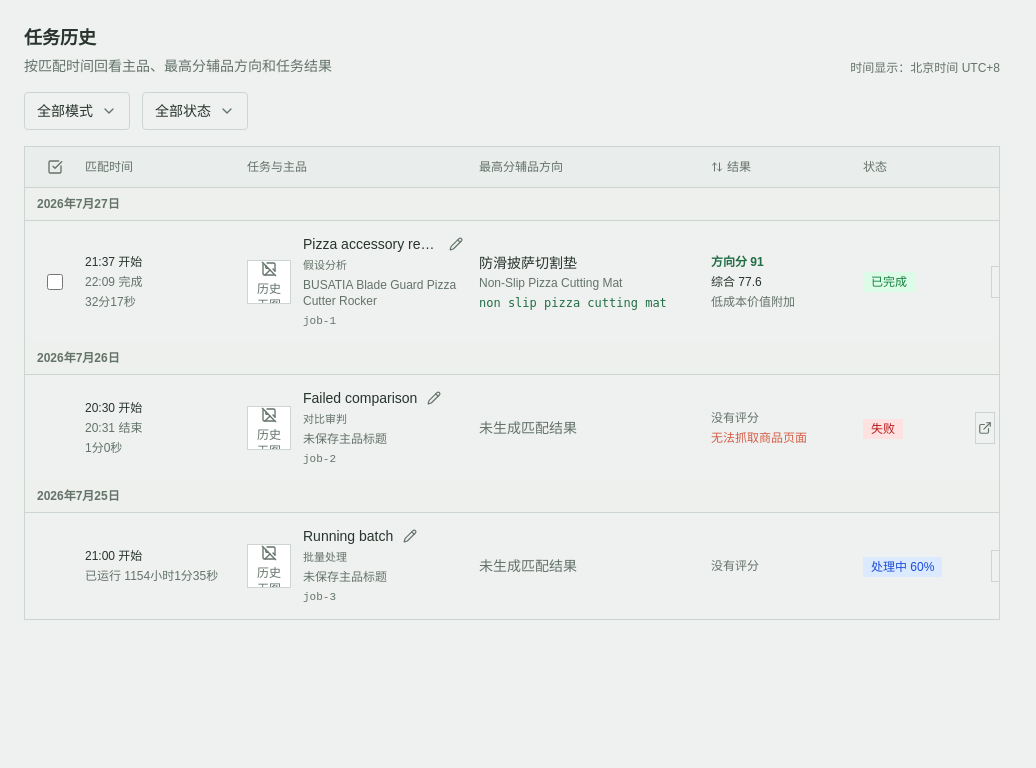
cancels task-note editing with Escape
The image size is (1036, 768).
Check: the text "Pizza accessory research" is shown, box [303, 234, 439, 254]
Step 1. Click the button named "修改任务备注" next to "Pizza accessory research" → click(456, 244), box [445, 233, 467, 255]
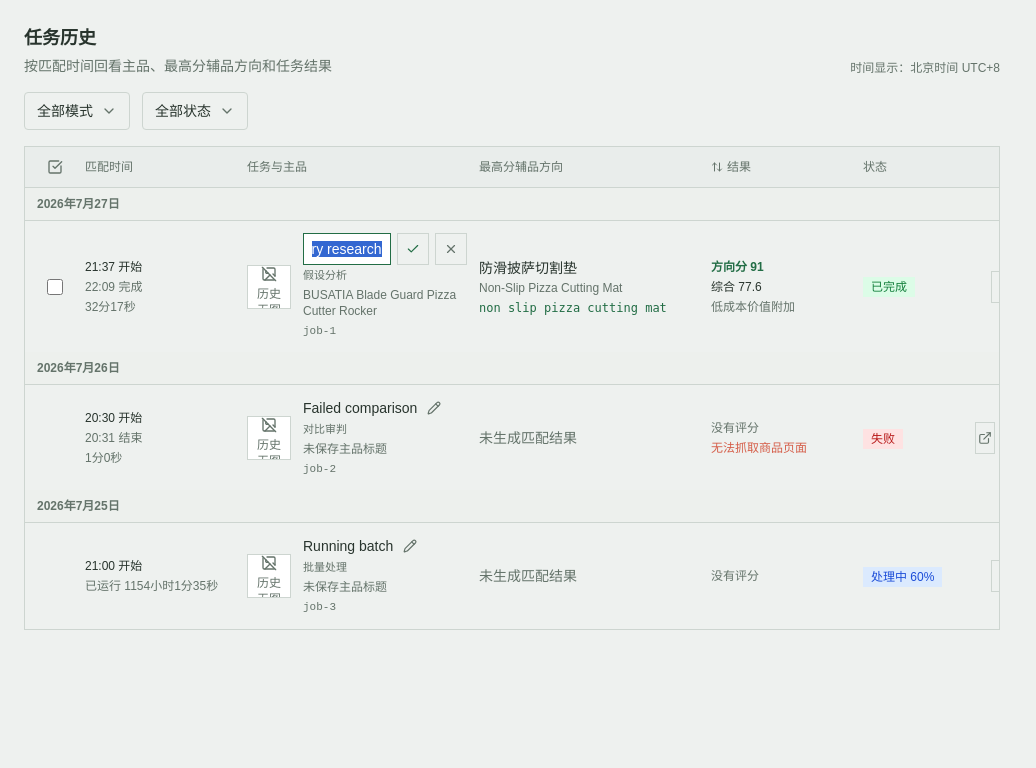
Step 2. Replace the text in the field named "任务备注" with "不会保存" → (347, 249), box [303, 233, 391, 265]
Then press Escape
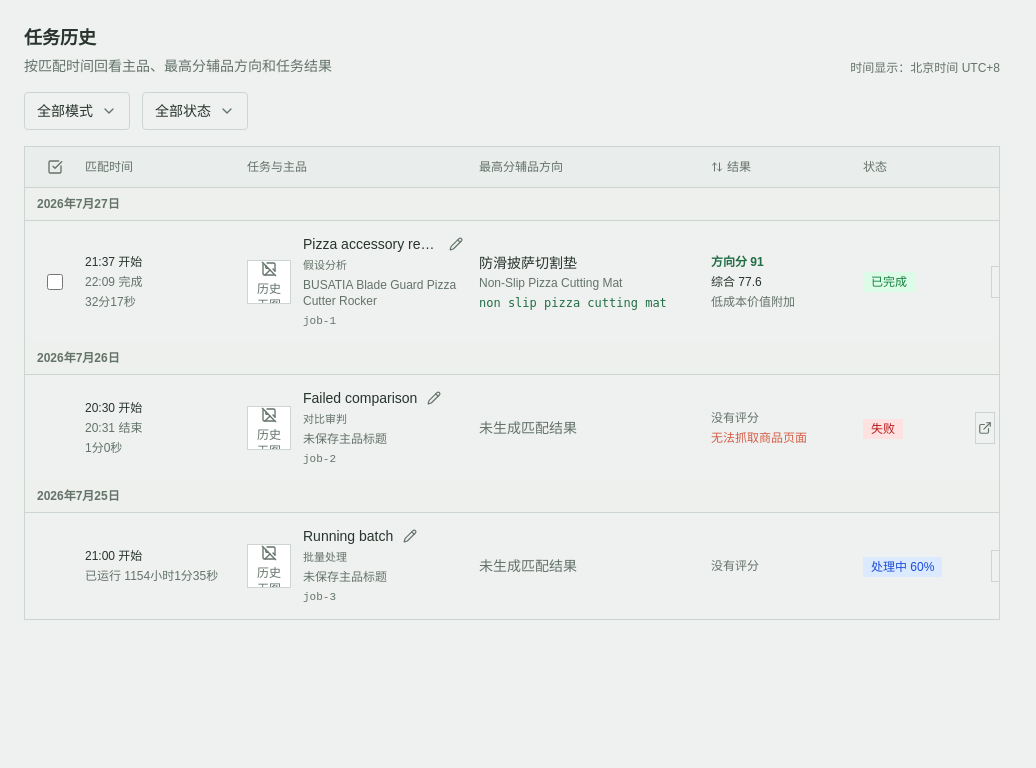
Check: the field labelled "任务备注" is gone
Check: the text "Pizza accessory research" is shown, box [303, 234, 439, 254]
